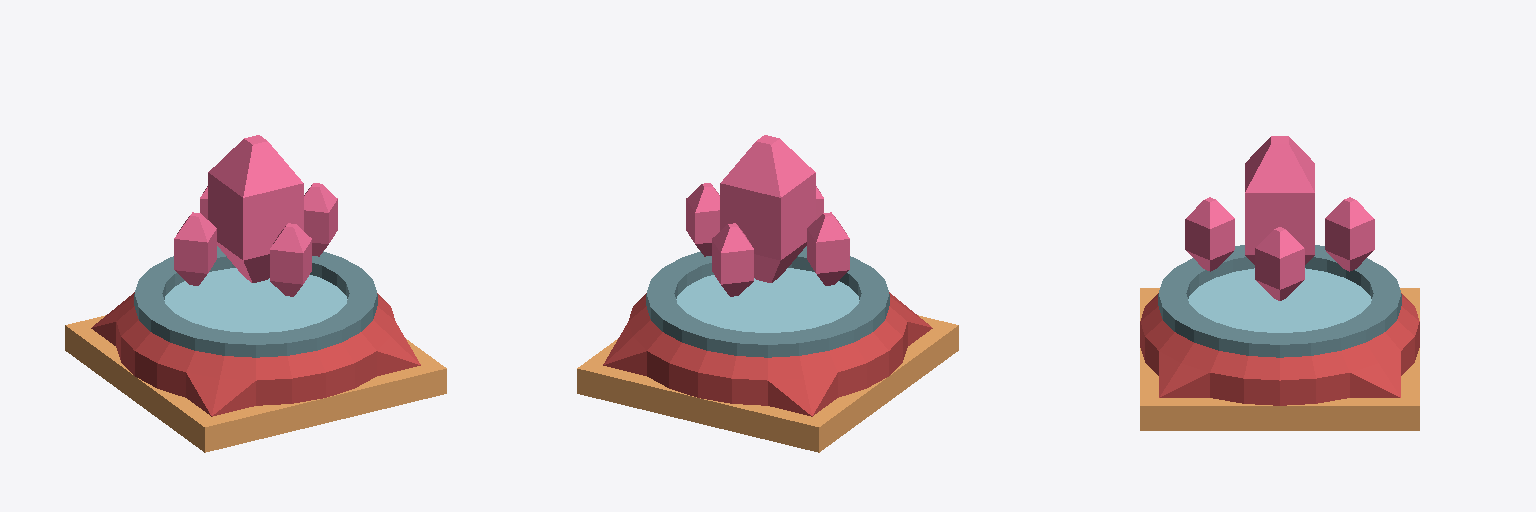
Rendered from tile_endpoint.obj.
3 renders of one model, left to right at view 1: azimuth 30°, elevation 25°; view 2: azimuth 150°, elevation 25°; view 3: azimuth 270°, elevation 25°, orthographic.
Visible parts, largest first — view 1: towerRound_crystals, crystal, tile_dirt; view 2: towerRound_crystals, crystal, tile_dirt; view 3: towerRound_crystals, crystal, tile_dirt.
Part boxes in pixels (x1,y1,x2,y2): towerRound_crystals: (91, 246, 420, 416); crystal: (174, 135, 337, 296); tile_dirt: (65, 315, 446, 452); towerRound_crystals: (603, 246, 932, 416); crystal: (686, 135, 849, 296); tile_dirt: (577, 315, 958, 452); towerRound_crystals: (1140, 245, 1419, 405); crystal: (1185, 136, 1374, 300); tile_dirt: (1140, 288, 1419, 430).
Bounding box in the file's own units: 1 × 0.9175 × 1.